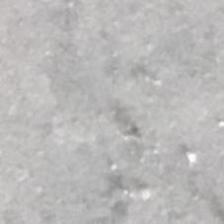Non_Crack: (9, 31, 199, 186)
